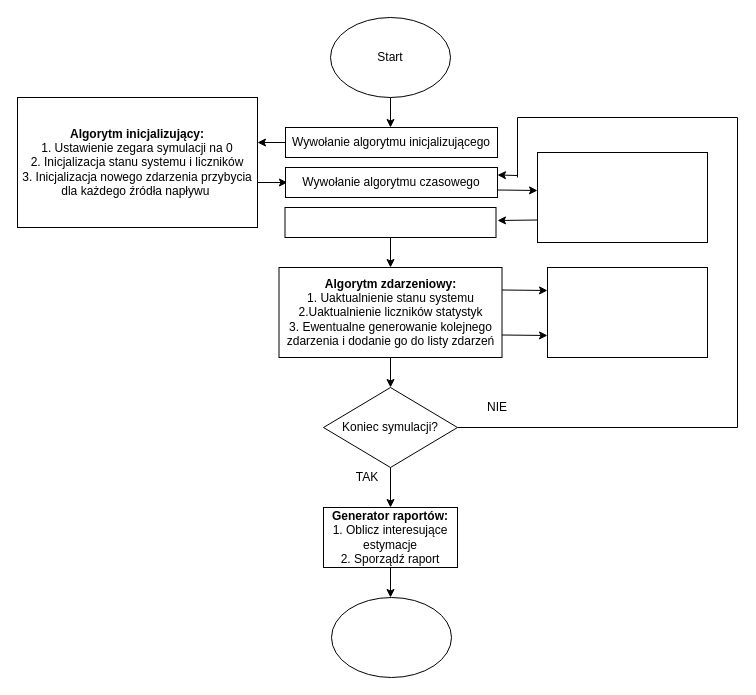
The diagram is 756 pixels wide and 695 high, and some of its shapes have lost their labels. Here are the shapes that lost their labels. From the top down, the box of each, then its label:
(536, 152, 708, 242): Algorytm czasowy: 1.Określ kolejny typ zdarzenia, np. i 2. Zwiększ czas zegara
(284, 206, 496, 238): Wywołanie algorytmu zdarzeniowego
(546, 266, 708, 358): Generowanie zmiennych losowych
(330, 596, 452, 678): Stop
